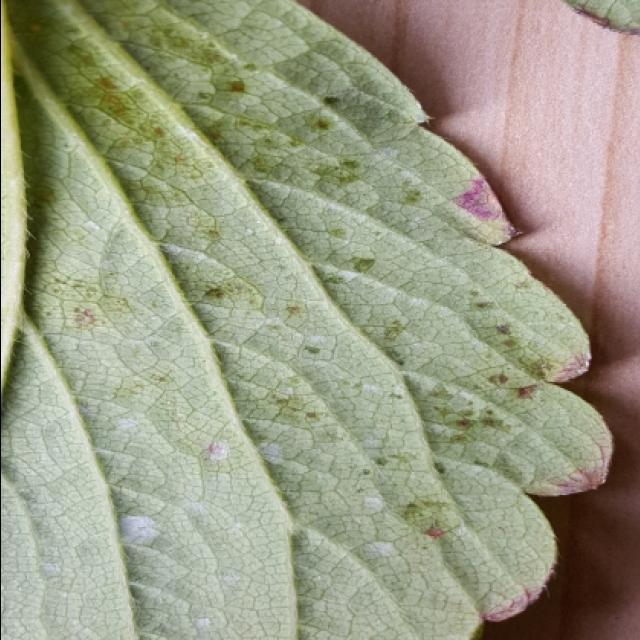Angular Leafspot: (9, 0, 612, 623)
